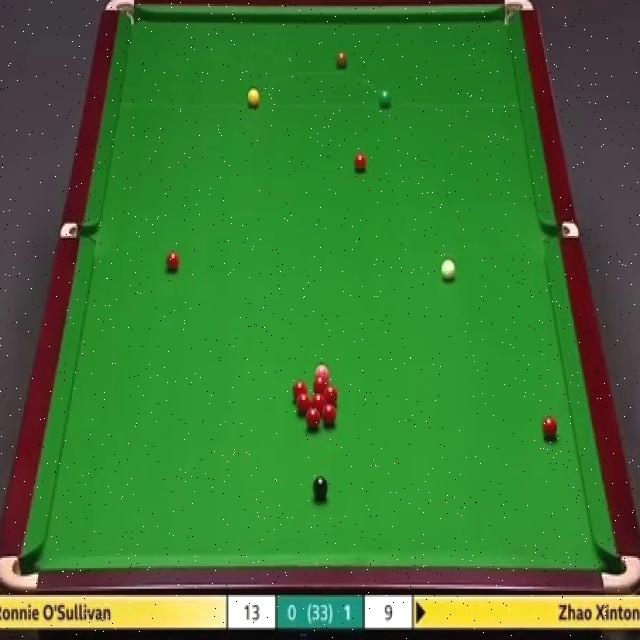black-ball: (311, 474, 328, 503)
brown-ball: (336, 50, 348, 70)
green-ball: (378, 89, 393, 111)
pink-ball: (314, 362, 330, 376)
red-ball: (542, 415, 558, 442), (164, 252, 180, 275), (306, 407, 321, 429), (322, 405, 336, 428), (292, 380, 307, 401), (310, 392, 326, 409), (314, 375, 329, 393), (324, 385, 336, 407), (354, 152, 367, 172), (296, 395, 310, 413), (246, 527, 247, 527)
white-ball: (439, 256, 458, 282)
yellow-ball: (247, 88, 260, 108)
